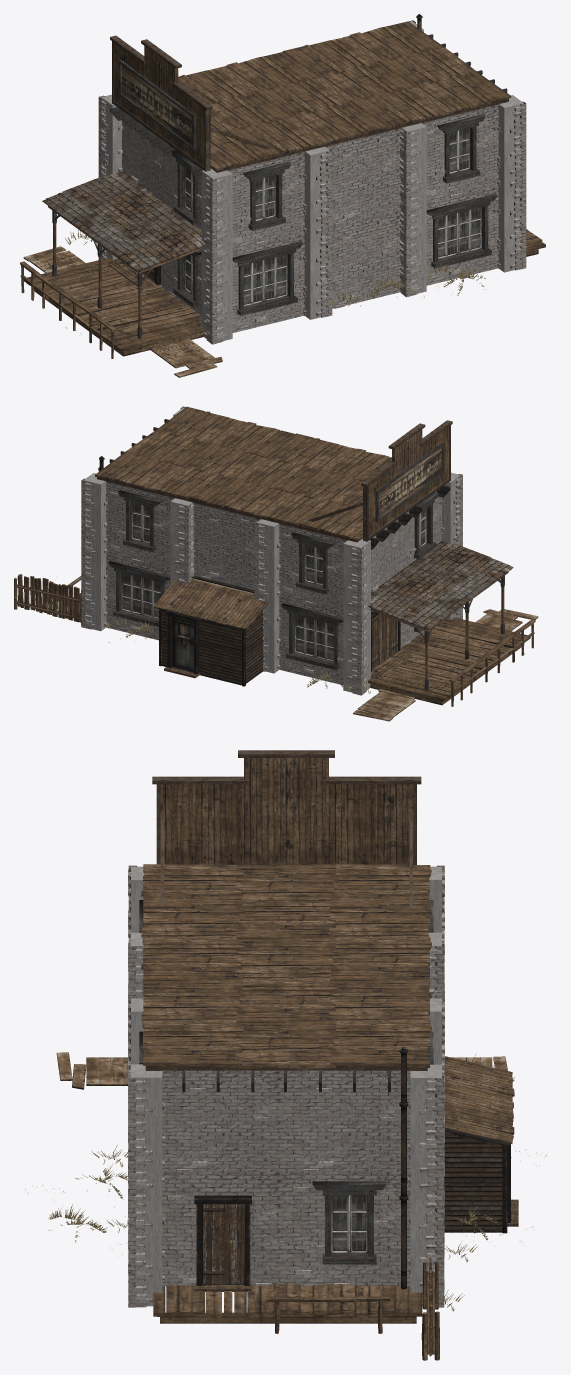
File: House_07.gltf
3 renders of one model, top to bottom at view 1: azimuth 30°, elevation 25°; view 2: azimuth 150°, elevation 25°; view 3: azimuth 270°, elevation 25°, orthographic. The views are drawn at different scales.
Visible parts, largest first — view 1: WallEdge_H3_T2 (×9), RoofExtension_W6_v1, Floor_6x6, Window_WW_v2 (×2), Window_W_v2 (×4), Wall_W3H3_T2 (1), Wall_W3H3_T2, SignBack_W6H3D3_v1, Wall_W3H3_T3 (1) (×6), Wall_W3H3_T3 (×5), Wall_W_W3H3_T2 (2), Wall_W_W3H3_T2 (3) (+24 smaller); view 2: Cabin_W4H3D1_v1, RoofExtension_W6_v1, Floor_6x6, WallEdge_H3_T2 (×7), Window_WW_v2 (×2), Wall_W3H3_T2 (6), Window_W_v2 (×3), SignBack_W6H3D3_v1, Wall_W3H3_T3 (×4), Wall_W_W3H3_T2 (5), Wall_W_W3H3_T2 (4), Wall_W3H3_T3 (1) (×4) (+28 smaller); view 3: SignBack_W6H3D3_v1, Wall_W3H3_T2 (5), Wall_W3H3_T2 (4), Cabin_W4H3D1_v1, Wall_D_W3H3_T2, WallEdge_H3_T2 (×6), Wall_W_W3H3_T2 (1), Floor_6x6 (1), Roof_W3D3_v1 (2), Roof_W3D3_v1 (1), Roof_W3D3_v1, Window_W_v2 (+19 smaller).
Boxes of the visible parts, x1=… form: WallEdge_H3_T2 (×9): x1=98, y1=95, x2=526, y2=344; RoofExtension_W6_v1: x1=42, y1=171, x2=205, y2=273; Floor_6x6: x1=24, y1=257, x2=205, y2=356; Window_WW_v2 (×2): x1=232, y1=193, x2=497, y2=315; Window_W_v2 (×4): x1=171, y1=114, x2=485, y2=307; Wall_W3H3_T2 (1): x1=325, y1=128, x2=401, y2=226; Wall_W3H3_T2: x1=332, y1=210, x2=401, y2=308; SignBack_W6H3D3_v1: x1=110, y1=35, x2=272, y2=171; Wall_W3H3_T3 (1) (×6): x1=201, y1=103, x2=523, y2=338; Wall_W3H3_T3 (×5): x1=101, y1=97, x2=426, y2=340; Wall_W_W3H3_T2 (2): x1=228, y1=152, x2=304, y2=250; Wall_W_W3H3_T2 (3): x1=422, y1=104, x2=498, y2=203; Cabin_W4H3D1_v1: x1=153, y1=575, x2=269, y2=686; RoofExtension_W6_v1: x1=368, y1=541, x2=513, y2=632; Floor_6x6: x1=368, y1=617, x2=530, y2=705; WallEdge_H3_T2 (×7): x1=81, y1=474, x2=462, y2=695; Window_WW_v2 (×2): x1=108, y1=561, x2=343, y2=670; Wall_W3H3_T2 (6): x1=193, y1=503, x2=260, y2=589; Window_W_v2 (×3): x1=118, y1=490, x2=438, y2=594; SignBack_W6H3D3_v1: x1=308, y1=420, x2=452, y2=541; Wall_W3H3_T3 (×4): x1=83, y1=480, x2=274, y2=673; Wall_W_W3H3_T2 (5): x1=106, y1=482, x2=174, y2=569; Wall_W_W3H3_T2 (4): x1=279, y1=524, x2=347, y2=611; Wall_W3H3_T3 (1) (×4): x1=170, y1=475, x2=460, y2=692; SignBack_W6H3D3_v1: x1=152, y1=750, x2=421, y2=906; Wall_W3H3_T2 (5): x1=160, y1=1070, x2=286, y2=1172; Wall_W3H3_T2 (4): x1=286, y1=1070, x2=412, y2=1172; Cabin_W4H3D1_v1: x1=444, y1=1056, x2=514, y2=1233; Wall_D_W3H3_T2: x1=162, y1=1171, x2=286, y2=1286; WallEdge_H3_T2 (×6): x1=128, y1=942, x2=444, y2=1307; Wall_W_W3H3_T2 (1): x1=286, y1=1171, x2=410, y2=1285; Floor_6x6 (1): x1=153, y1=1284, x2=422, y2=1323; Roof_W3D3_v1 (2): x1=141, y1=1020, x2=244, y2=1070; Roof_W3D3_v1 (1): x1=235, y1=1020, x2=337, y2=1070; Roof_W3D3_v1: x1=328, y1=1020, x2=431, y2=1070; Window_W_v2: x1=312, y1=1181, x2=386, y2=1264.
Bounding box in the file's own units: 19.6 × 9.13 × 12.9.
2 materials, 2 textured.
